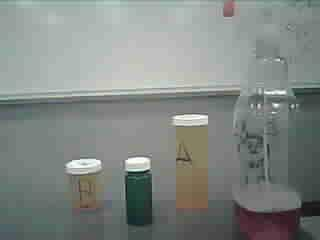Bottle A: (166, 110, 214, 216)
Bottle B: (62, 157, 106, 212)
Bottle C: (120, 152, 160, 231)
hazard: (217, 0, 317, 240)
